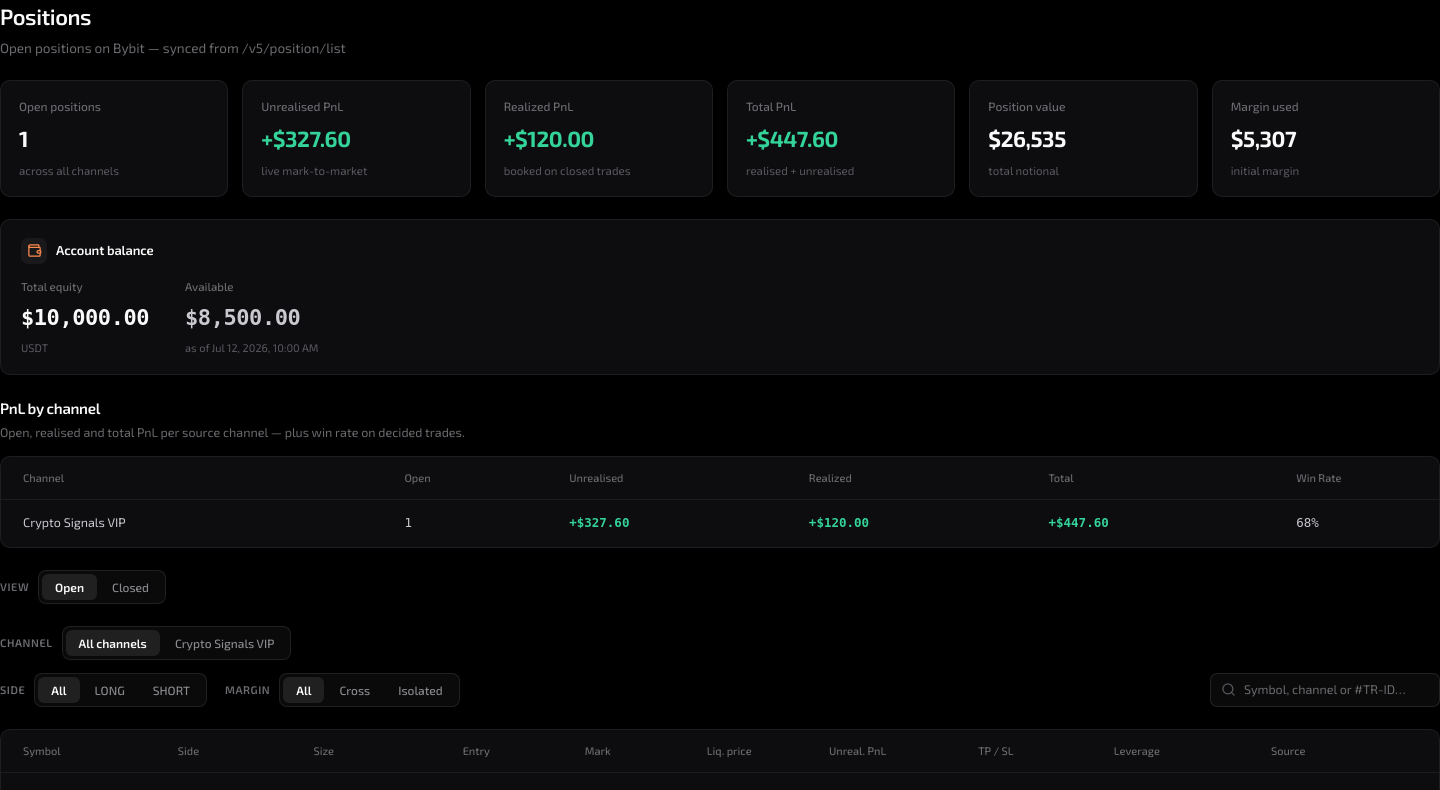
Test: PositionsPage › вкладка Closed рендерит закрытые сделки из /positions/history
Click the button "Closed" at (130, 587), box x1=99 y1=574 x2=162 y2=600
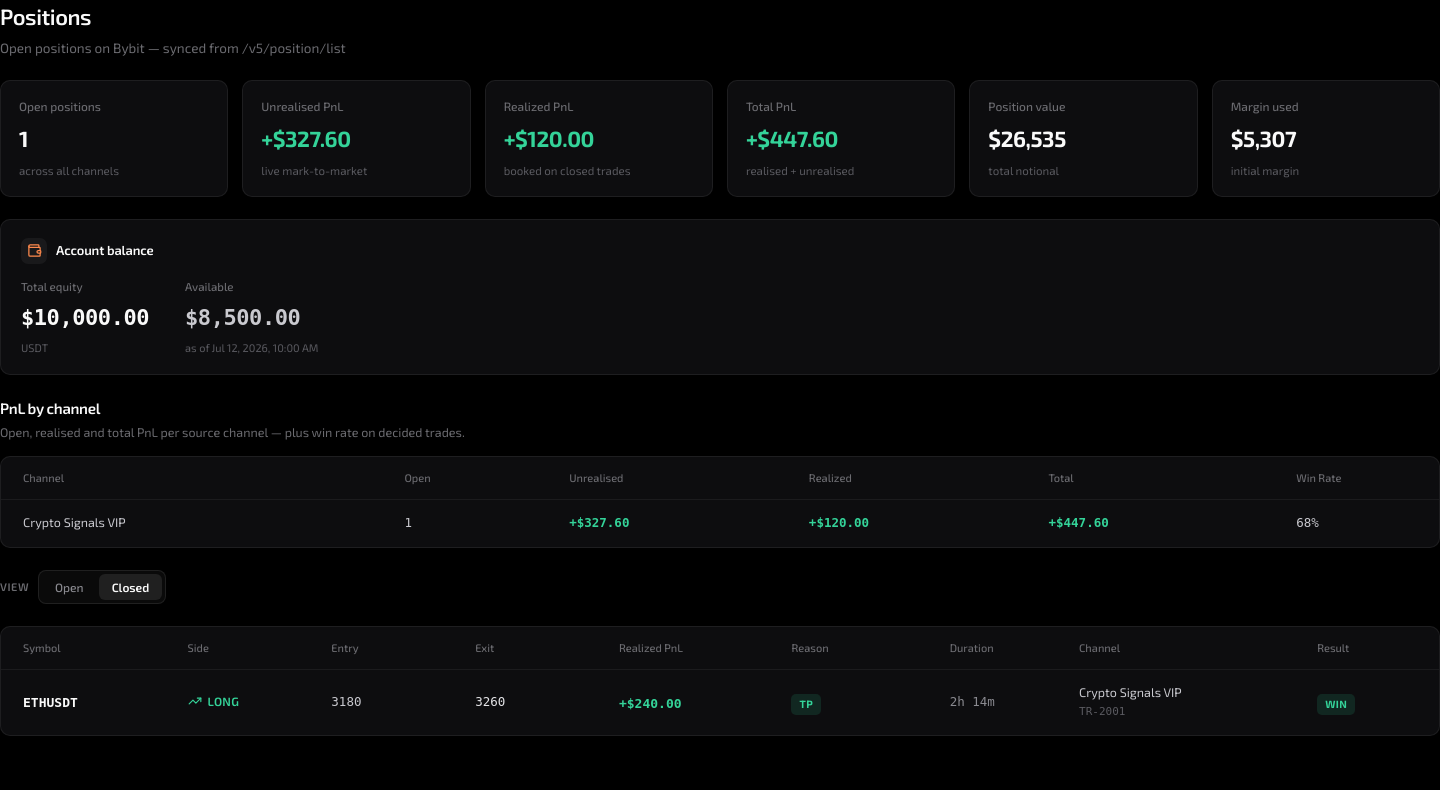
Expected: the text "ETHUSDT" is shown, x1=1 y1=670 x2=174 y2=735
Expected: the text "+$240.00" is shown, x1=619 y1=696 x2=682 y2=711
Expected: the text "Win" is shown, x1=1317 y1=694 x2=1355 y2=715
